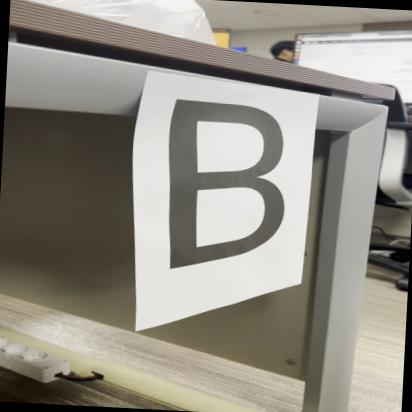seat: (154, 90, 287, 291)
